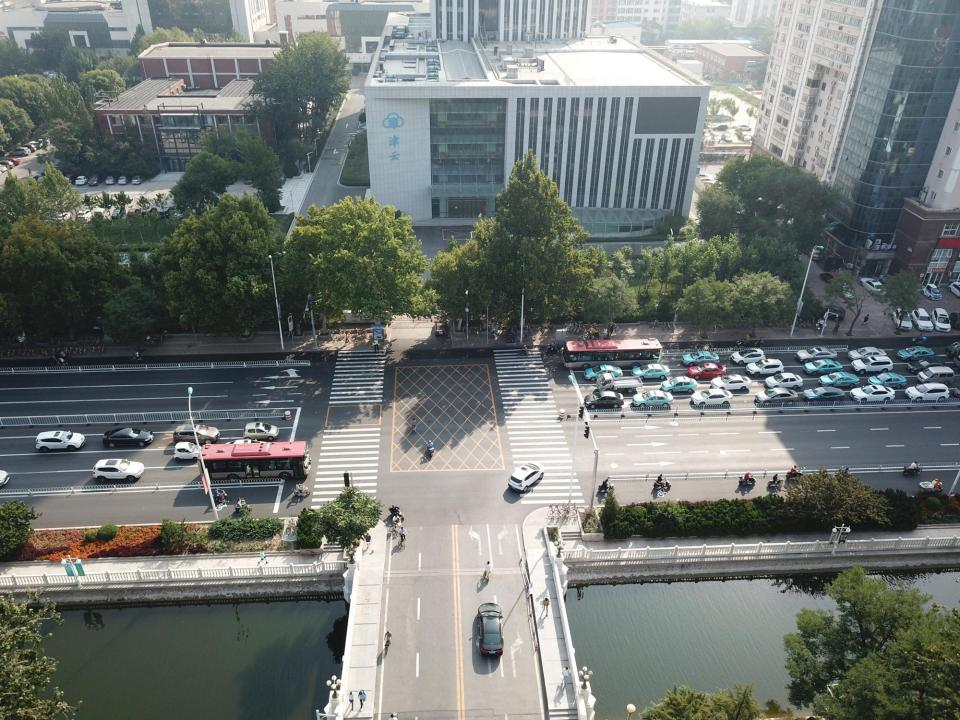bus: (197, 440, 312, 481), (562, 338, 662, 370)
car: (477, 602, 504, 658), (92, 459, 145, 481), (508, 461, 545, 492), (35, 430, 86, 452), (102, 427, 155, 448), (174, 424, 220, 445), (905, 383, 950, 403), (850, 384, 895, 402), (755, 387, 798, 405), (851, 356, 893, 374), (632, 390, 674, 408), (802, 387, 845, 404), (691, 389, 734, 406), (224, 439, 269, 455), (803, 358, 843, 376), (583, 364, 623, 382), (818, 371, 860, 388), (710, 374, 752, 391), (242, 422, 280, 440), (746, 359, 784, 377), (867, 373, 907, 390), (631, 363, 671, 380), (584, 391, 624, 408), (795, 347, 837, 363), (906, 358, 947, 374), (765, 373, 803, 390), (687, 364, 727, 380), (173, 442, 206, 461), (897, 346, 935, 362), (847, 346, 887, 361), (813, 304, 845, 322), (682, 351, 720, 366), (731, 348, 766, 364), (910, 308, 934, 331), (860, 277, 887, 296), (930, 308, 951, 332), (834, 280, 856, 300), (892, 308, 912, 330), (921, 283, 942, 300), (820, 272, 842, 285), (805, 247, 824, 262), (944, 340, 960, 357), (174, 202, 190, 218), (88, 173, 106, 186), (76, 208, 94, 221), (158, 205, 174, 219), (948, 281, 960, 299), (111, 206, 126, 220), (434, 321, 448, 336), (9, 147, 31, 156), (949, 312, 960, 330), (142, 207, 157, 219), (703, 180, 725, 188), (55, 212, 72, 222), (737, 131, 752, 142), (63, 174, 77, 185), (127, 208, 141, 219), (244, 171, 255, 185), (18, 144, 37, 152), (696, 172, 715, 180), (75, 175, 89, 185), (734, 124, 753, 131), (4, 158, 20, 166), (26, 141, 42, 149), (0, 160, 14, 169), (118, 175, 132, 184), (131, 176, 146, 184), (105, 176, 119, 184), (35, 139, 50, 146), (712, 124, 728, 130), (721, 134, 732, 142), (703, 75, 715, 80)
truck: (596, 372, 643, 393)
van: (917, 366, 955, 385), (94, 206, 111, 221)
